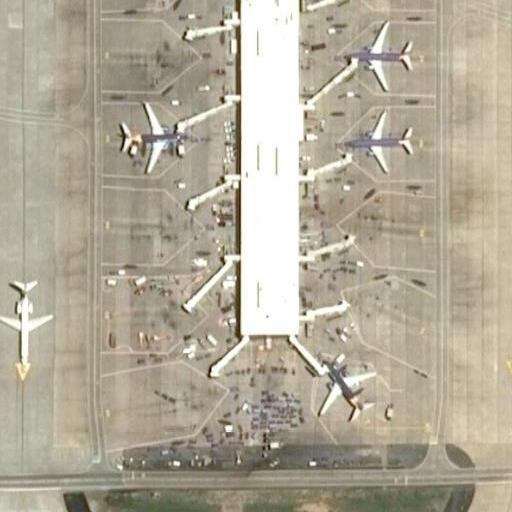Aircraft: (336, 17, 416, 89), (0, 271, 56, 370), (117, 97, 187, 173), (314, 349, 379, 424), (340, 111, 415, 167)
